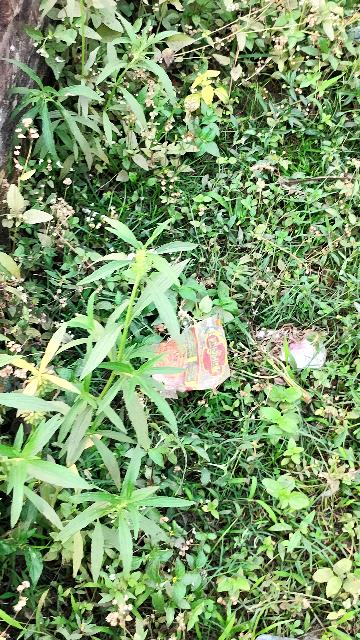polythene: (138, 317, 240, 413)
